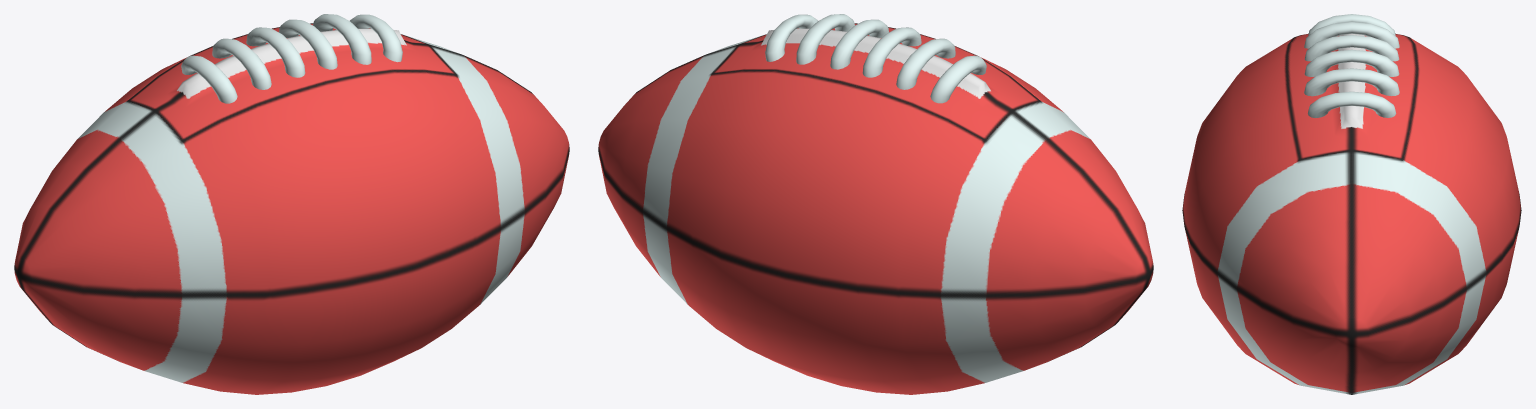
The model's file is RB_BALL_01.fbx.
The picture shows the model from 3 angles, left to right: view 1: azimuth 30°, elevation 25°; view 2: azimuth 150°, elevation 25°; view 3: azimuth 270°, elevation 25°; orthographic projection. The views are drawn at different scales.
Visible parts, largest first — view 1: RB_BALL; view 2: RB_BALL; view 3: RB_BALL.
Boxes of the visible parts, bbox=[...] form: RB_BALL: bbox=[14, 14, 569, 394]; RB_BALL: bbox=[598, 14, 1153, 394]; RB_BALL: bbox=[1182, 14, 1521, 394].
Bounding box in the file's own units: 90.51 × 54.18 × 51.93.
1 material, 1 textured.
